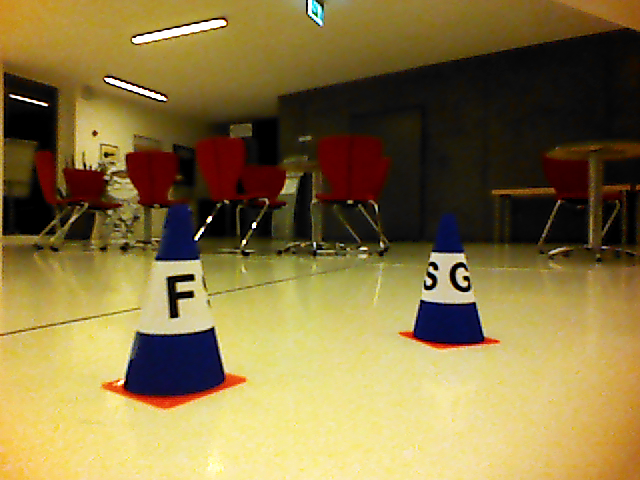bluecone: (121, 204, 225, 397), (415, 214, 485, 345)
